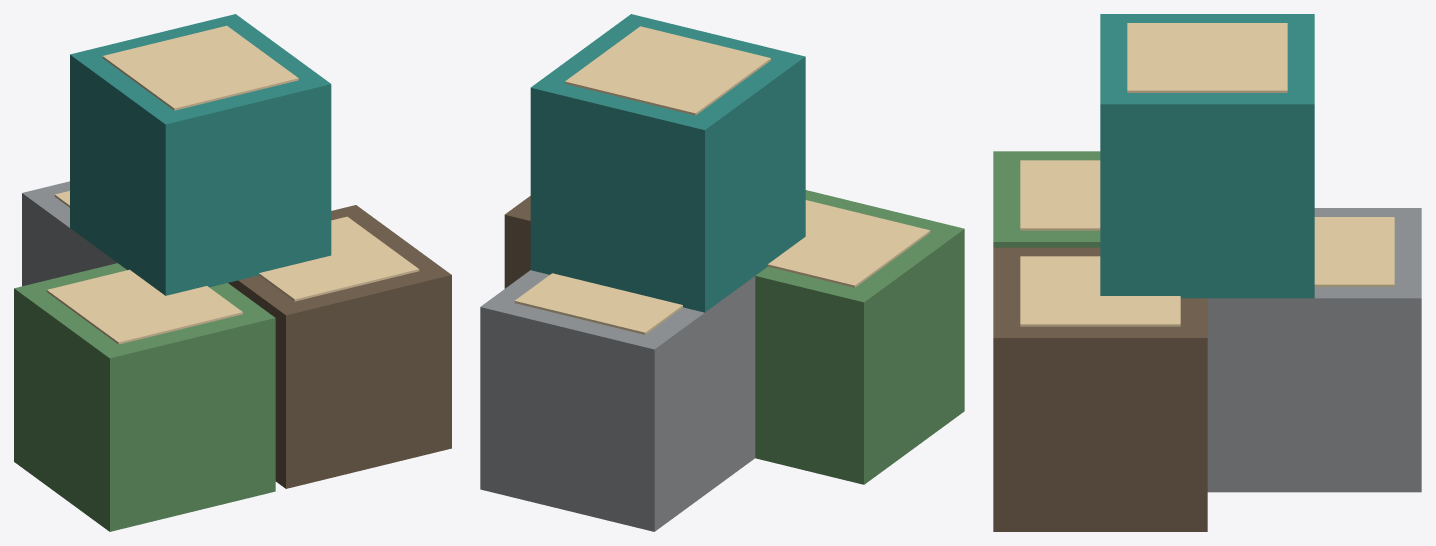
Rendered from minecraft_style_block_stack.glb.
3 renders of one model, left to right at view 1: azimuth 30°, elevation 25°; view 2: azimuth 150°, elevation 25°; view 3: azimuth 270°, elevation 25°, orthographic. The views are drawn at different scales.
Parts seen in each view (by area): view 1: generic_cube.003, generic_cube, generic_cube.001, top_inset.003, top_inset, top_inset.001, generic_cube.002; view 2: generic_cube.003, generic_cube.002, generic_cube, top_inset.003, top_inset, top_inset.002, generic_cube.001; view 3: generic_cube.003, generic_cube.001, generic_cube.002, top_inset.003, top_inset.001, top_inset, top_inset.002, generic_cube.
Boxes of the visible parts, left/top/right/bottom form: generic_cube.003: left=70, top=14, right=331, bottom=295; generic_cube: left=14, top=263, right=275, bottom=531; generic_cube.001: left=228, top=205, right=451, bottom=488; top_inset.003: left=102, top=25, right=298, bottom=110; top_inset: left=46, top=269, right=242, bottom=344; top_inset.001: left=259, top=216, right=419, bottom=301; generic_cube.002: left=22, top=181, right=116, bottom=286; generic_cube.003: left=530, top=14, right=805, bottom=312; generic_cube.002: left=480, top=270, right=755, bottom=531; generic_cube: left=755, top=190, right=964, bottom=484; top_inset.003: left=565, top=26, right=770, bottom=115; top_inset: left=767, top=200, right=930, bottom=287; top_inset.002: left=514, top=273, right=682, bottom=334; generic_cube.001: left=504, top=196, right=530, bottom=288; generic_cube.003: left=1100, top=14, right=1314, bottom=298; generic_cube.001: left=993, top=247, right=1207, bottom=531; generic_cube.002: left=1207, top=208, right=1421, bottom=492; top_inset.003: left=1127, top=23, right=1287, bottom=92; top_inset.001: left=1020, top=256, right=1180, bottom=326; top_inset: left=1020, top=160, right=1100, bottom=230; top_inset.002: left=1314, top=217, right=1394, bottom=286; generic_cube: left=993, top=151, right=1100, bottom=247.
Size of the model in its own units: 1.65 by 1.61 by 1.6.
